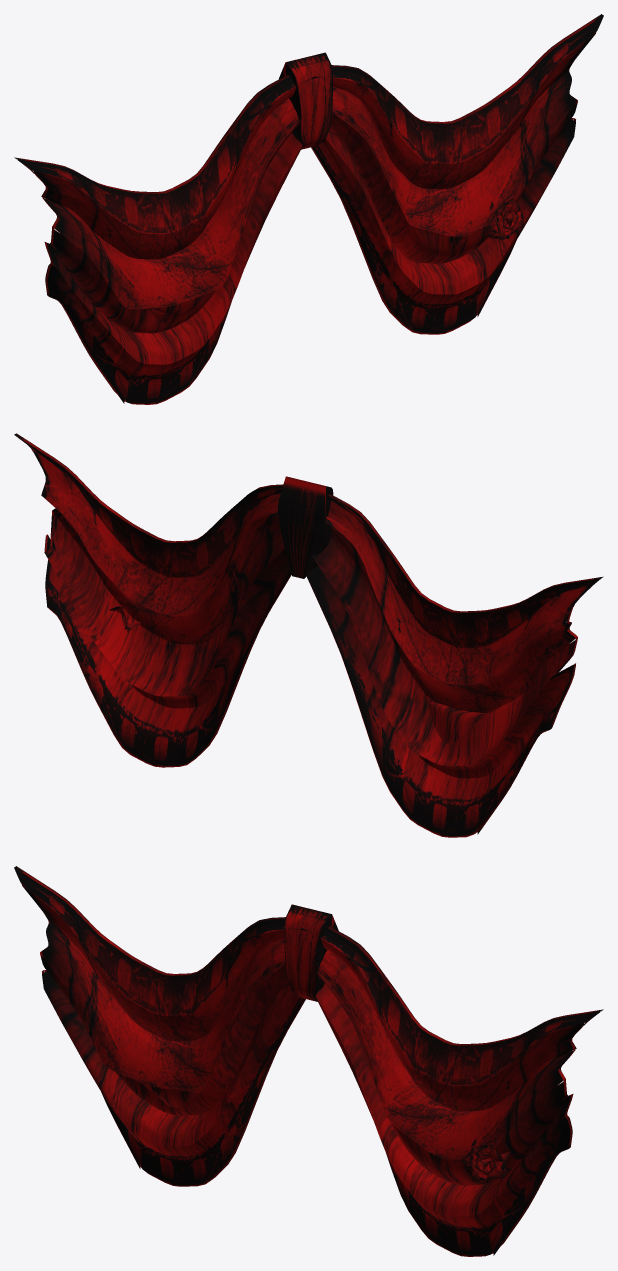
File: stage02.fbx
3 views of the same model, one above another, from view 1: azimuth 30°, elevation 25°; view 2: azimuth 150°, elevation 25°; view 3: azimuth 330°, elevation 25° (orthographic).
Visible parts, largest first — view 1: U_Char; view 2: U_Char; view 3: U_Char.
Part boxes in pixels (left/top/right/bottom): U_Char: left=14, top=14, right=603, bottom=404; U_Char: left=14, top=433, right=603, bottom=837; U_Char: left=14, top=866, right=603, bottom=1256.
Size of the model in its own units: 619 by 318 by 47.1.
